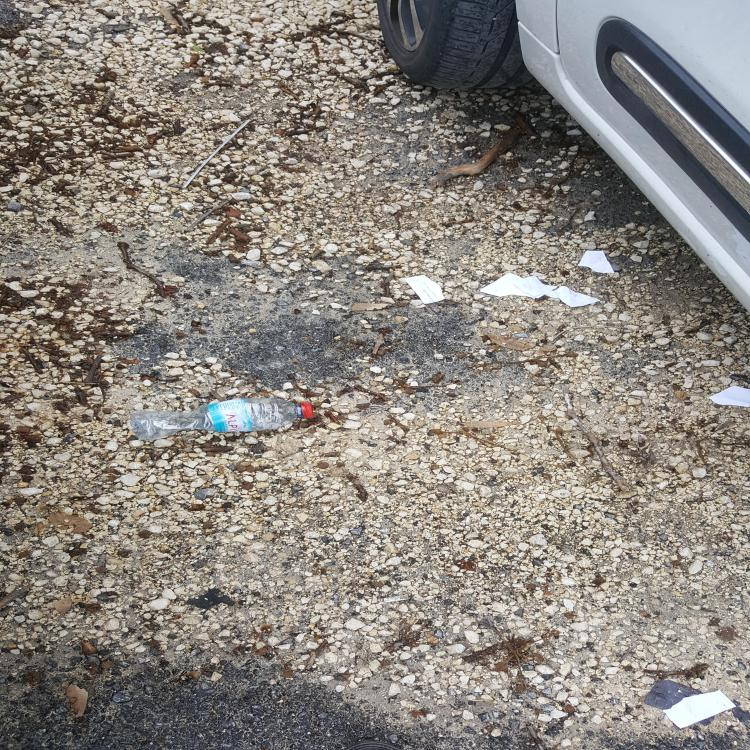Clear plastic bottle: (131, 398, 314, 441)
Normal paper: (480, 273, 600, 307), (403, 275, 446, 304), (709, 386, 750, 407), (578, 250, 614, 273)
Plastic bottle cap: (303, 402, 313, 418)
Plastic straw: (182, 119, 251, 188)
Unlabeled litter: (662, 690, 737, 728)
